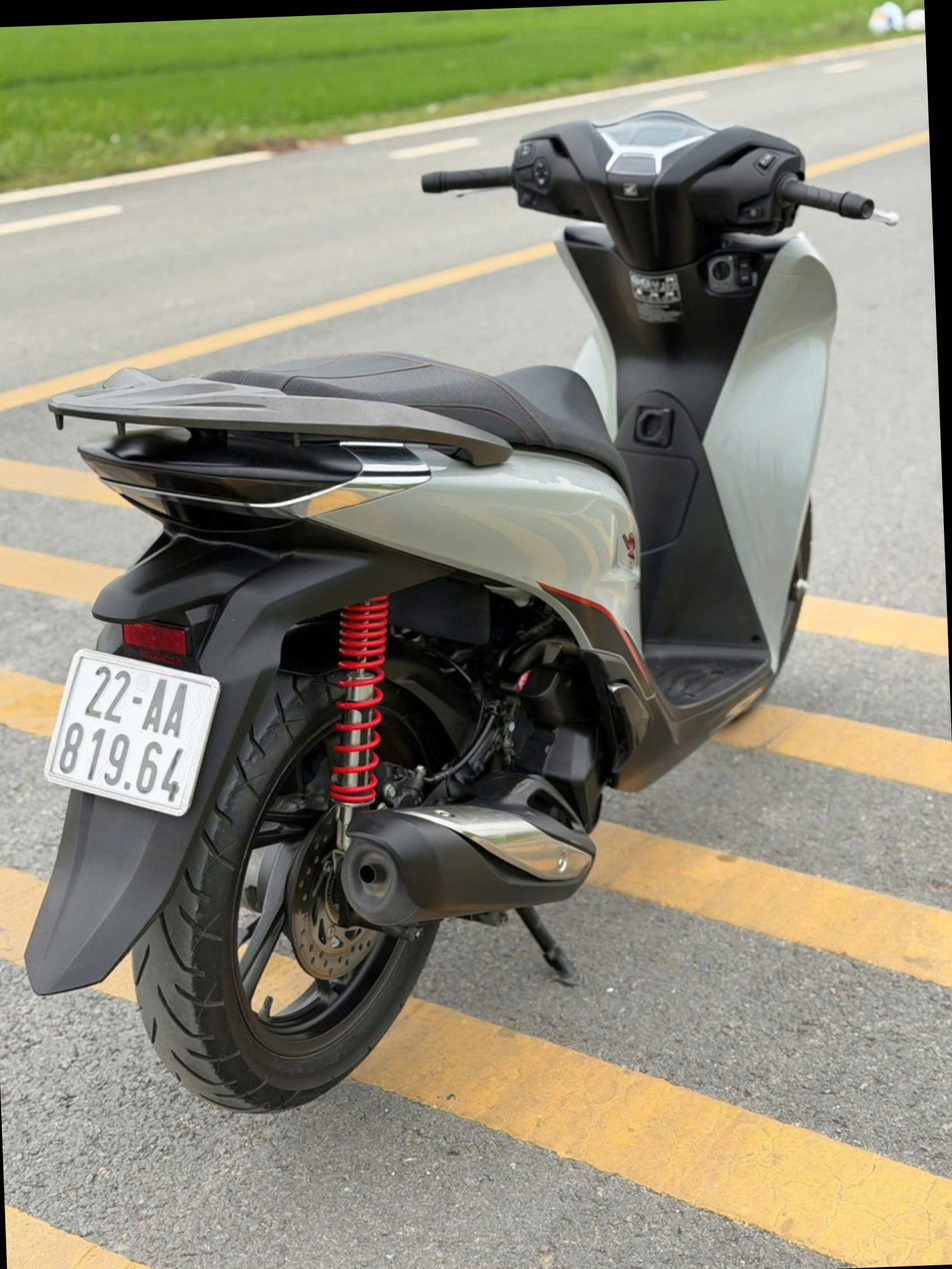Bien-so: (35, 637, 234, 819)
